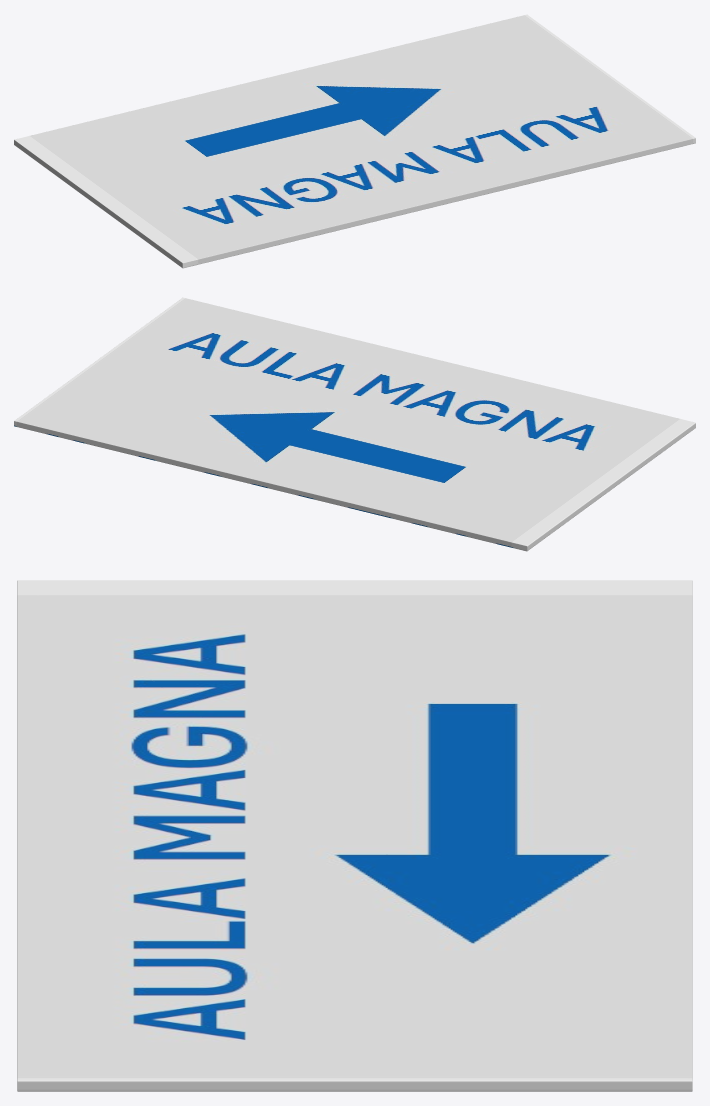
File: modelo_cartel_aula_magna.obj
3 views of the same model, one above another, from view 1: azimuth 30°, elevation 25°; view 2: azimuth 150°, elevation 25°; view 3: azimuth 270°, elevation 25° (orthographic). The views are drawn at different scales.
Visible parts, largest first — view 1: painting_Material.004; view 2: painting_Material.004; view 3: painting_Material.004.
Part boxes in pixels (bbox=[...]): painting_Material.004: bbox=[14, 14, 695, 268]; painting_Material.004: bbox=[14, 297, 695, 551]; painting_Material.004: bbox=[17, 580, 692, 1091].
Bounding box in the file's own units: 0.3346 × 0.00339 × 0.1905.
Materials: 1 (1 with a texture image).
